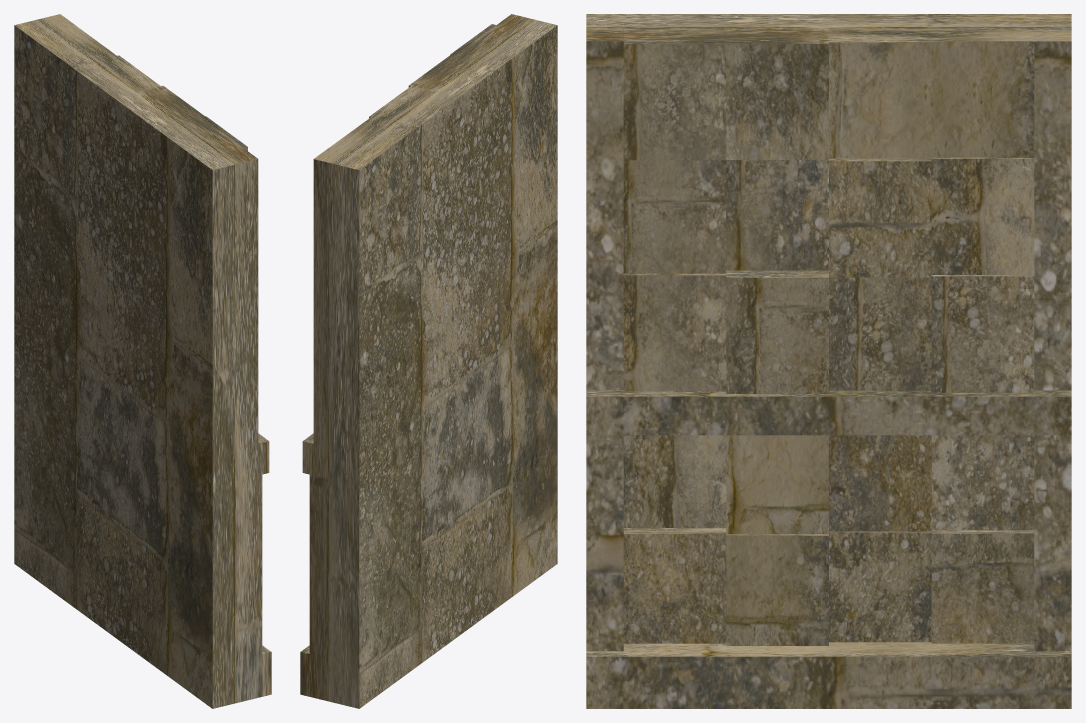
Rendered from Temple wall1.fbx.
The picture shows the model from 3 angles, left to right: view 1: azimuth 30°, elevation 25°; view 2: azimuth 150°, elevation 25°; view 3: azimuth 270°, elevation 25°; orthographic projection. The views are drawn at different scales.
Visible parts, largest first — view 1: Wall Tiles, Wall Border; view 2: Wall Tiles, Wall Border; view 3: Wall Tiles, Wall Border.
Boxes of the visible parts, left/top/right/bottom form: Wall Tiles: left=14, top=25, right=212, bottom=708; Wall Border: left=15, top=14, right=271, bottom=708; Wall Tiles: left=359, top=25, right=557, bottom=708; Wall Border: left=300, top=14, right=556, bottom=708; Wall Tiles: left=623, top=41, right=1034, bottom=645; Wall Border: left=586, top=14, right=1071, bottom=708.
Size of the model in its own units: 68.68 by 600 by 400.
1 material, 1 textured.
